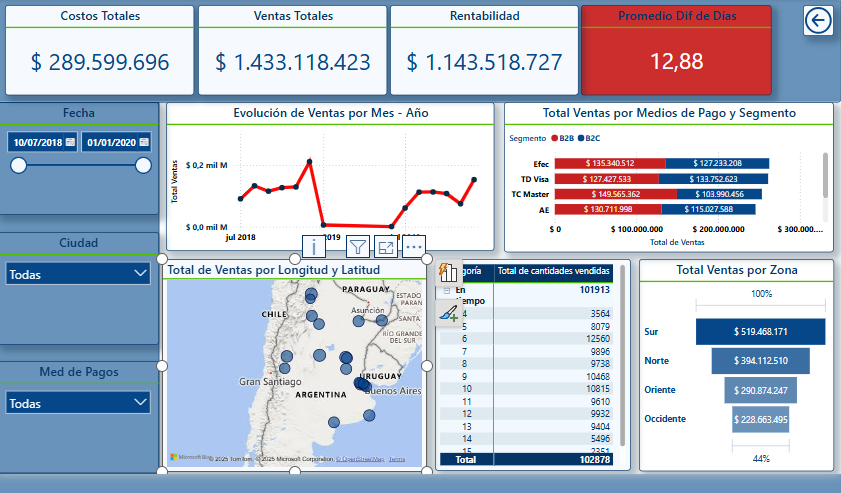

Layout of this report page (visuals, bound fields, positions):
{"tool":"powerbi","page":{"name":"Detalle de Ventas","canvas":[1280,720],"ordinal":2},"visuals":[{"type":"shape","box":[0,157,246.2,563],"z":0},{"type":"shape","box":[0,0,1280.2,157],"z":1000},{"type":"card","title":"Promedio Dif de Días","fields":{"Values":["Medidas.Prom Dif Días"]},"box":[886.3,9.3,289.4,136.8],"z":1000,"group":"g1"},{"type":"card","title":"Costos Totales","fields":{"Values":["Medidas.Total de Costos $"]},"box":[12.4,9.3,287.3,137.3],"z":2000,"group":"g1"},{"type":"lineChart","title":"Evolución de Ventas por Mes - Año","fields":{"Category":["Tabla de Tiempo.Date.Variación.Jerarquía de fechas.Año","Tabla de Tiempo.Date.Variación.Jerarquía de fechas.Mes"],"Y":["Medidas.Total de Ventas $"]},"box":[256.3,157,498.2,226.1],"z":2000},{"type":"card","title":"Ventas Totales","fields":{"Values":["Medidas.Total de Ventas $"]},"box":[304.4,9.3,287.3,137.3],"z":3000,"group":"g1"},{"type":"group","id":"g1","title":"Grupo 1","box":[12.4,9.3,1163.5,138.3],"z":3000},{"type":"slicer","title":"Fecha","fields":{"Values":["Tabla de Tiempo.Date"]},"box":[0,157,246.2,171.4],"z":4000},{"type":"card","title":"Rentabilidad ","fields":{"Values":["Medidas.Total Rentabilidad $"]},"box":[596.4,9.3,285.7,137.3],"z":5000,"group":"g1"},{"type":"slicer","title":"Ciudad","fields":{"Values":["Territorio.Ciudad"]},"box":[0,352.8,246.2,171.4],"z":5000},{"type":"slicer","title":"Med de Pagos","fields":{"Values":["Medios de pago.Descripción Abrev"]},"box":[0,548.6,246.2,171.4],"z":6000},{"type":"funnel","title":"Total Ventas por Zona","fields":{"Category":["Vendedor.Zona"],"Y":["Medidas.Total de Ventas $"]},"box":[973.6,394.3,295.7,321.5],"z":7000},{"type":"barChart","title":"Total Ventas por Medios de Pago y Segmento","fields":{"Y":["Medidas.Total de Ventas $"],"Series":["Vendedor.Segmento"],"Category":["Medios de pago.Descripción Abrev"]},"box":[769,155.5,499.7,227.5],"z":8000},{"type":"pivotTable","fields":{"Values":["Medidas.Total de cantidades vendidas"],"Rows":["Ventas.Categoría","Ventas.Diferencia de fechas"]},"box":[663.8,394.6,296.6,321.1],"z":9000},{"type":"map","title":"Total de Ventas por Longitud y Latitud","fields":{"Y":["Territorio.Latitud"],"X":["Territorio.Longitud"],"Size":["Medidas.Total de Ventas $"]},"box":[250.2,394.3,401.9,323],"z":10000},{"type":"actionButton","box":[1222.5,9.3,46.6,46.6],"z":11000}]}

Visuals, with their boxes on the page's 1280x720 design canvas (x1, y1, x2, y2). These are canvas units, not pixel positions in the 841x493 screenshot, which may show the page scaled, cropped or inside an application window:
shape: [left=0, top=157, right=246, bottom=720]
shape: [left=0, top=0, right=1280, bottom=157]
"Promedio Dif de Días" card: [left=886, top=9, right=1176, bottom=146]
"Costos Totales" card: [left=12, top=9, right=300, bottom=147]
"Evolución de Ventas por Mes - Año" lineChart: [left=256, top=157, right=754, bottom=383]
"Ventas Totales" card: [left=304, top=9, right=592, bottom=147]
"Grupo 1" group: [left=12, top=9, right=1176, bottom=148]
"Fecha" slicer: [left=0, top=157, right=246, bottom=328]
"Rentabilidad " card: [left=596, top=9, right=882, bottom=147]
"Ciudad" slicer: [left=0, top=353, right=246, bottom=524]
"Med de Pagos" slicer: [left=0, top=549, right=246, bottom=720]
"Total Ventas por Zona" funnel: [left=974, top=394, right=1269, bottom=716]
"Total Ventas por Medios de Pago y Segmento" barChart: [left=769, top=156, right=1269, bottom=383]
pivotTable - Medidas.Total de cantidades vendidas x Ventas.Categoría: [left=664, top=395, right=960, bottom=716]
"Total de Ventas por Longitud y Latitud" map: [left=250, top=394, right=652, bottom=717]
actionButton: [left=1222, top=9, right=1269, bottom=56]
